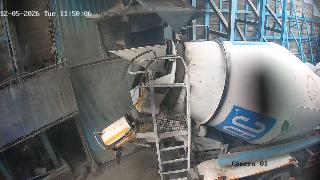cement_mixer_truck: (109, 39, 320, 180)
